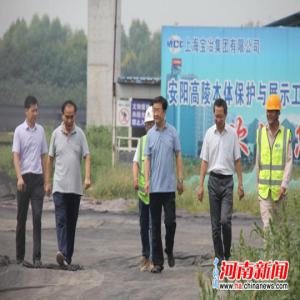none: (61, 101, 79, 129), (152, 96, 169, 125), (23, 96, 40, 124), (213, 99, 228, 128)
white: (145, 107, 156, 133)
yellow: (265, 94, 283, 126)
